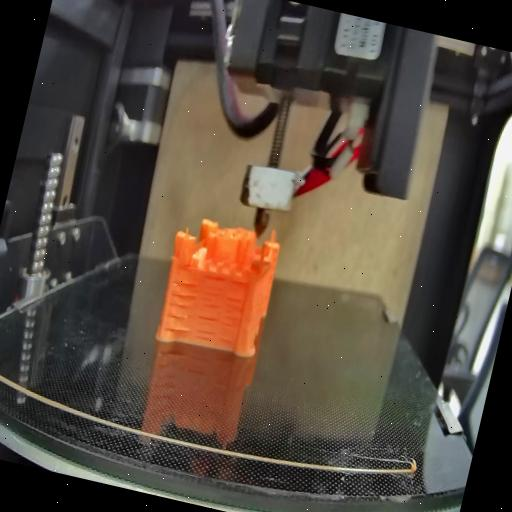cracks: (191, 274, 229, 346), (161, 274, 202, 336), (217, 293, 246, 349), (228, 276, 252, 290)
